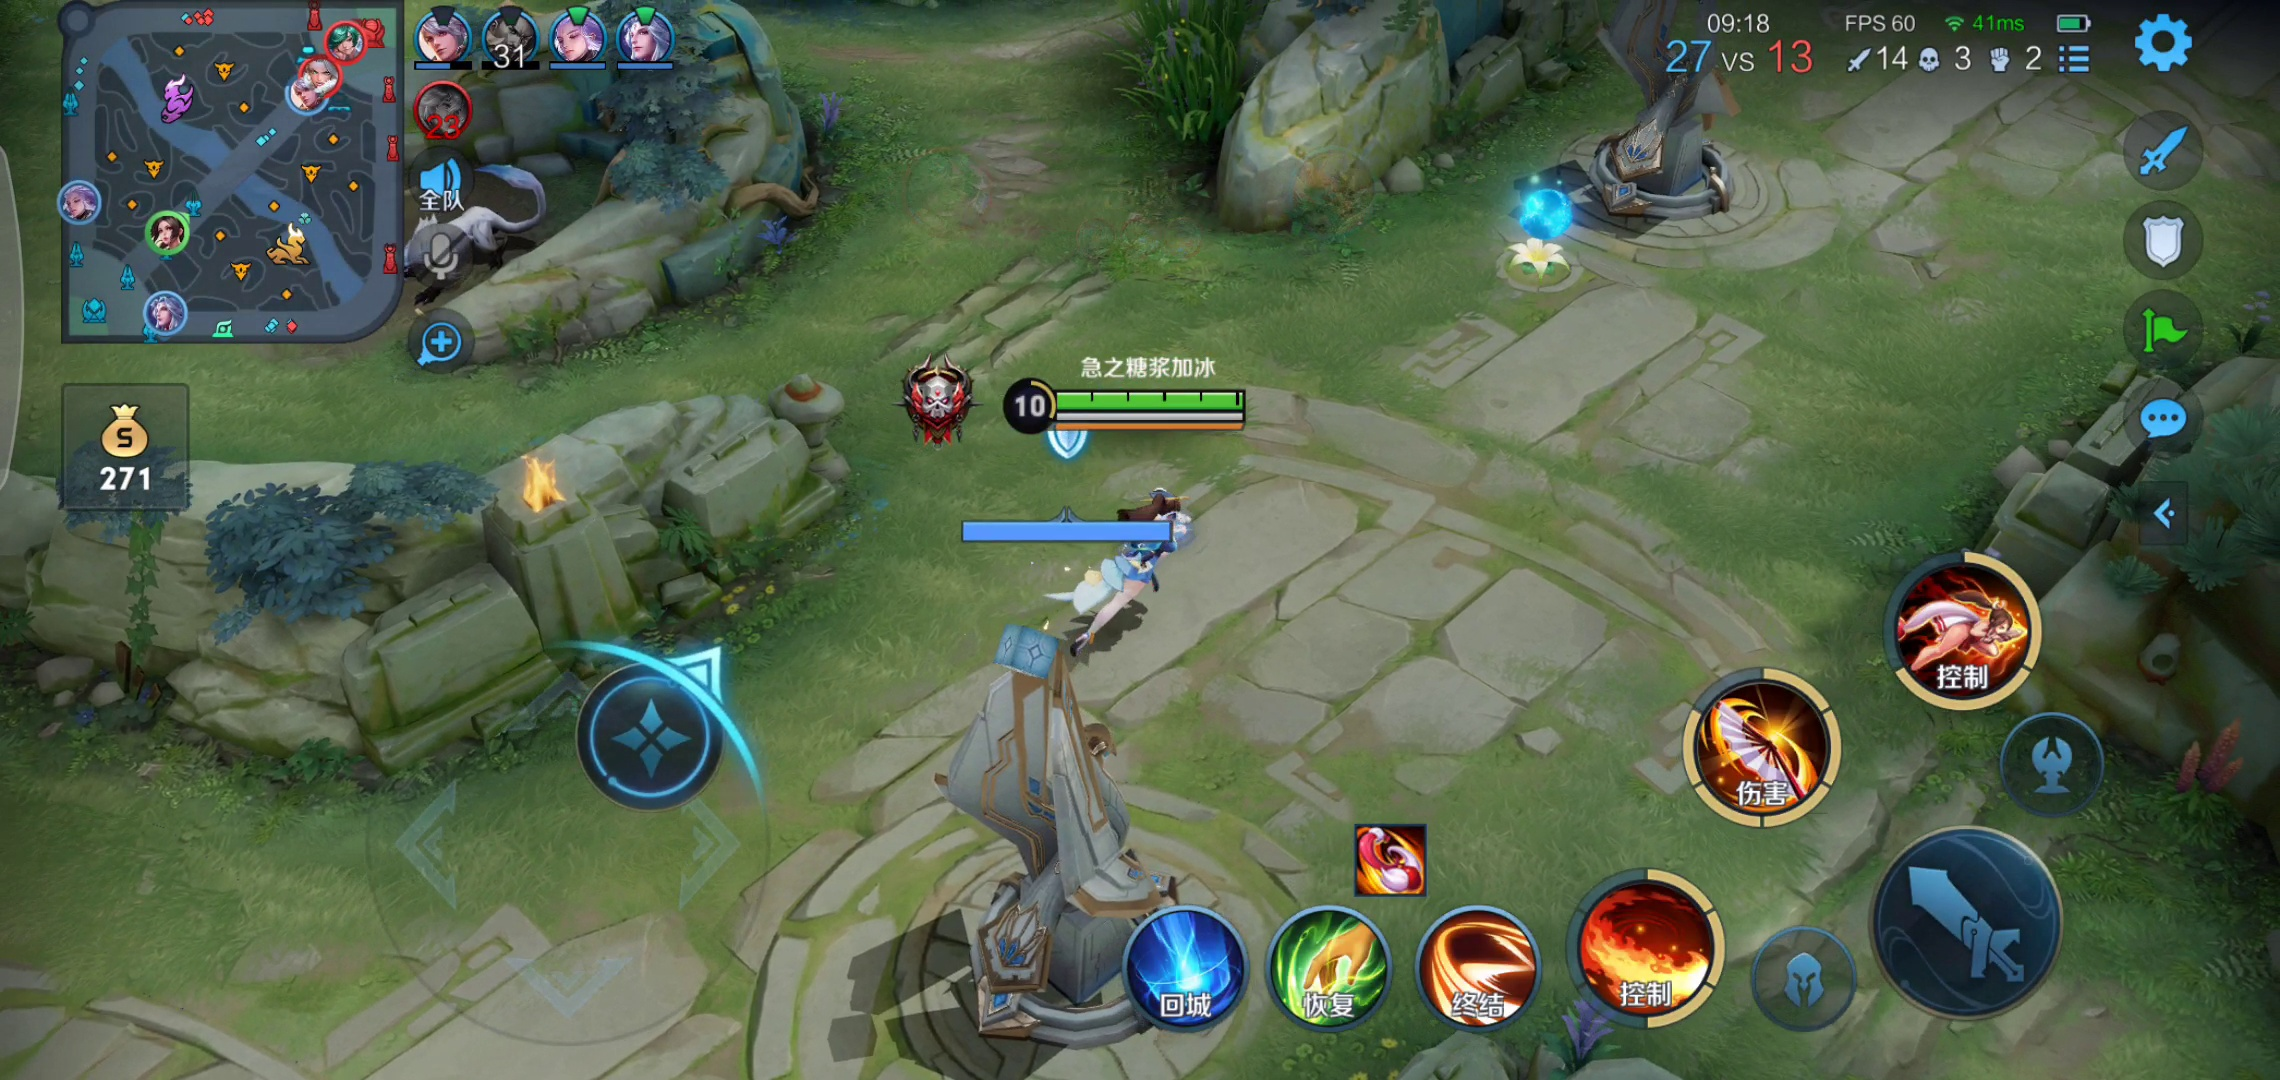grass: (1124, 1, 1252, 140)
hero: (1031, 491, 1216, 632)
tower: (947, 626, 1235, 1060), (1565, 1, 1757, 235)
wild_monster: (377, 154, 555, 291)
